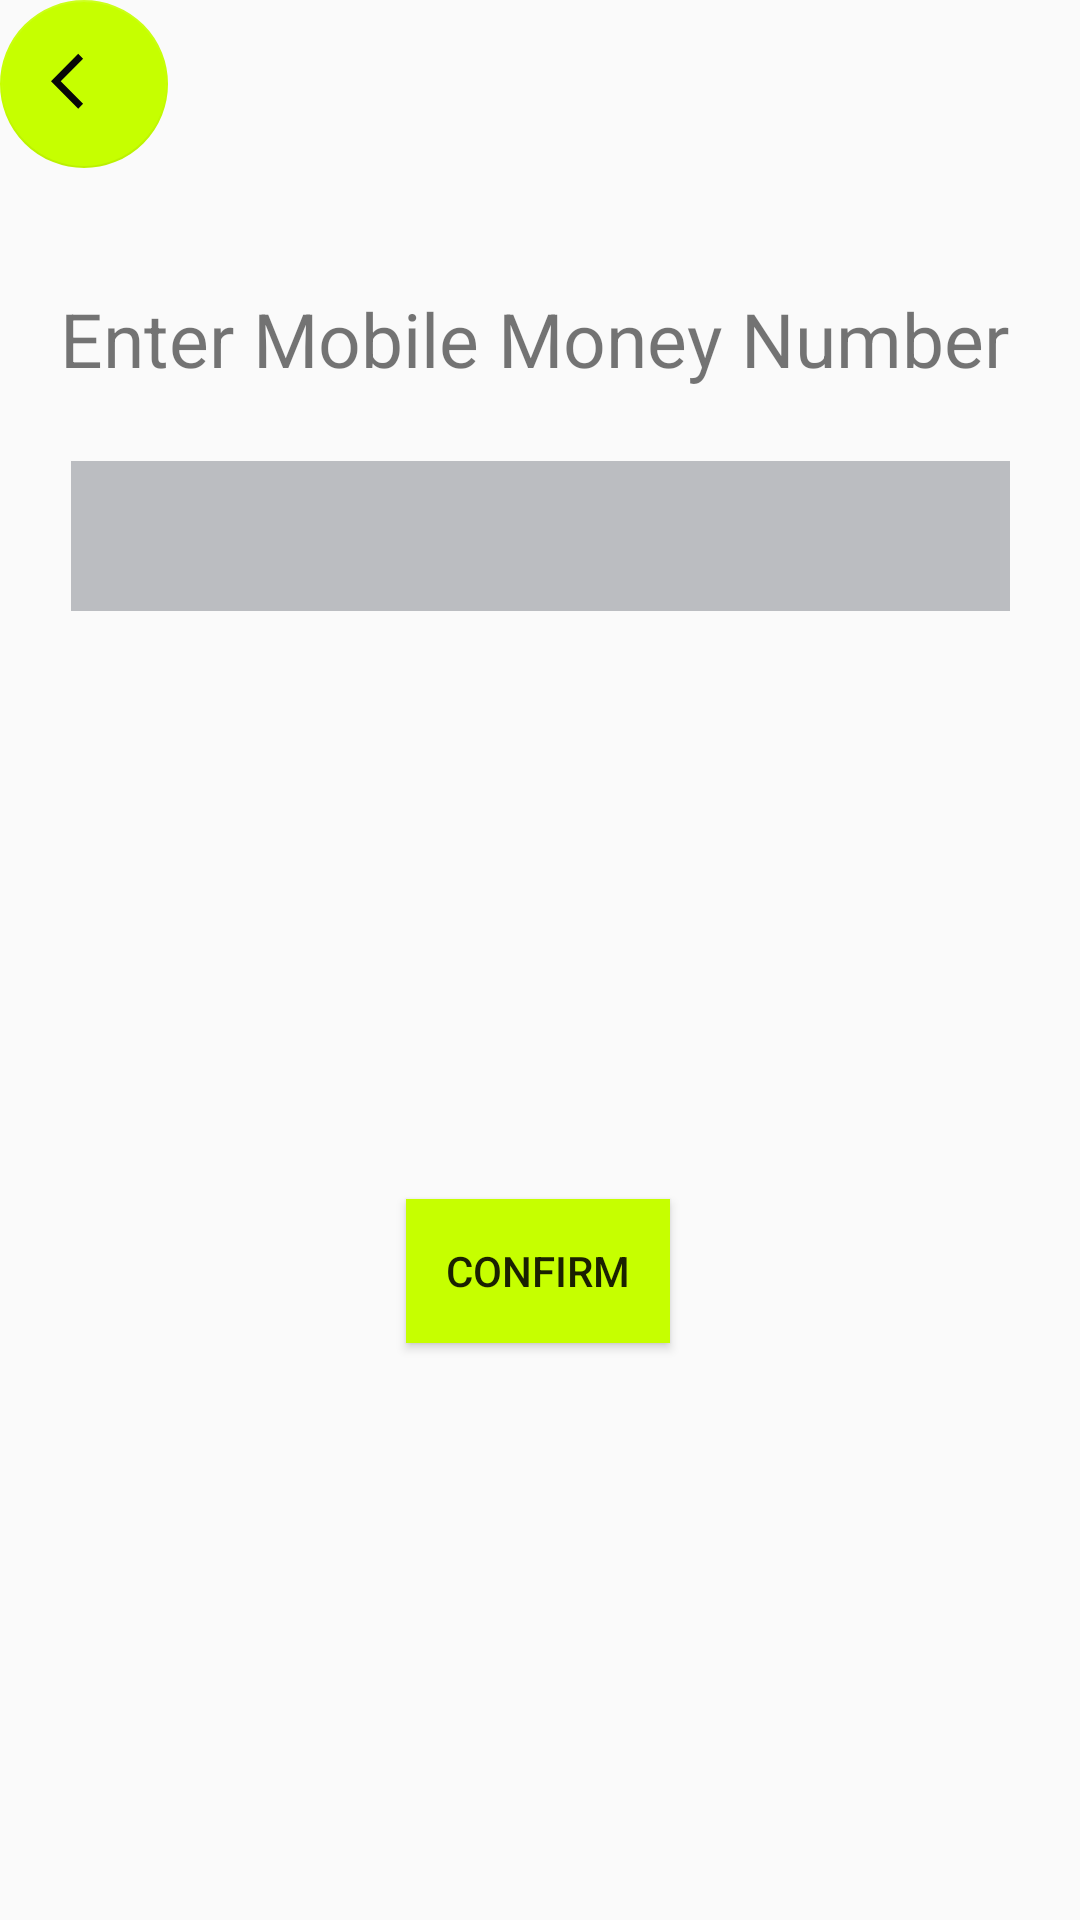

Screen size 1080w x 1920h. Icon name, then its box in pixels as [left=x1, top=y1, right=x2, bottom=y2]:
backw: [left=0, top=0, right=168, bottom=168]
